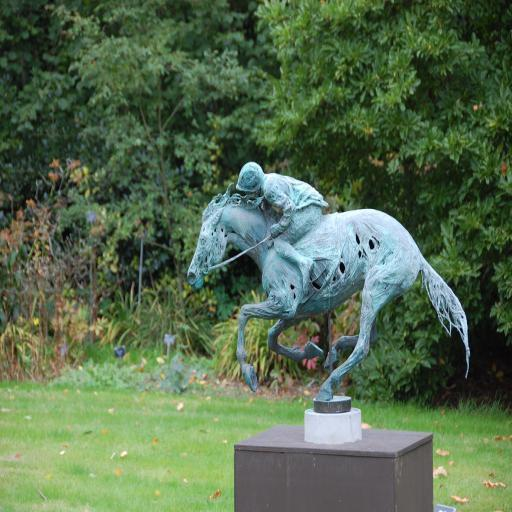horse: (188, 182, 470, 402)
